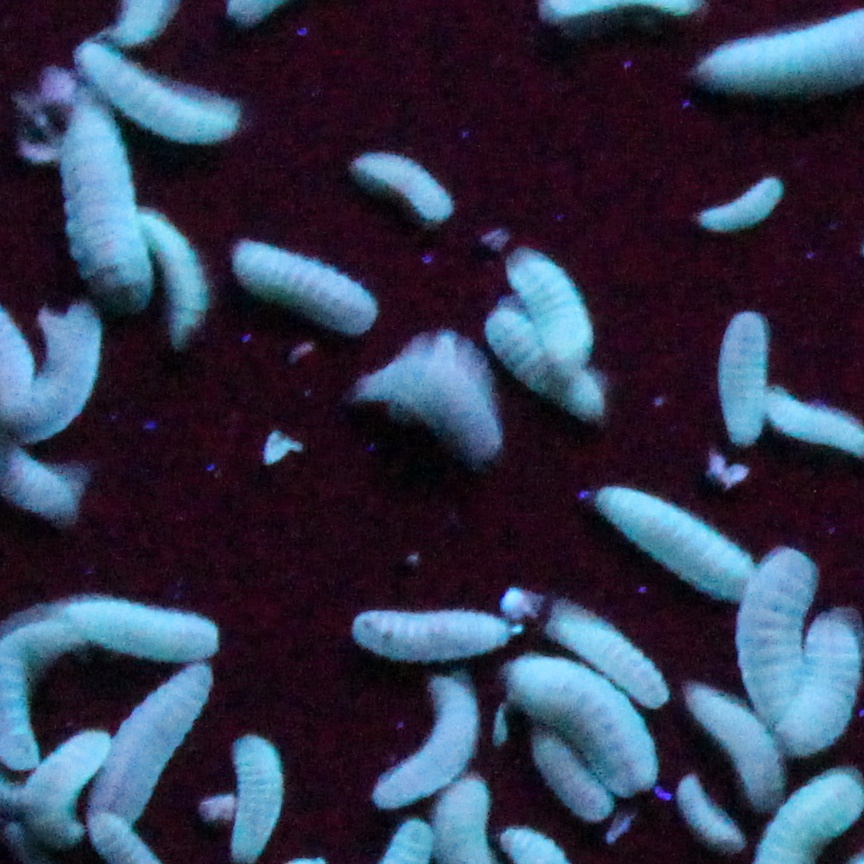larve: (55, 95, 170, 301), (587, 466, 747, 601), (81, 46, 256, 149), (104, 669, 218, 824), (364, 332, 513, 449), (527, 669, 664, 784), (230, 232, 375, 332), (538, 598, 670, 704), (373, 675, 481, 801), (24, 729, 110, 852), (24, 298, 101, 432), (504, 249, 584, 375), (350, 138, 461, 226), (747, 549, 801, 724), (787, 615, 858, 744), (144, 203, 203, 352), (353, 609, 513, 658), (224, 741, 284, 861), (64, 609, 216, 655), (530, 741, 615, 818), (673, 769, 738, 846), (690, 178, 787, 226), (727, 312, 758, 449)
